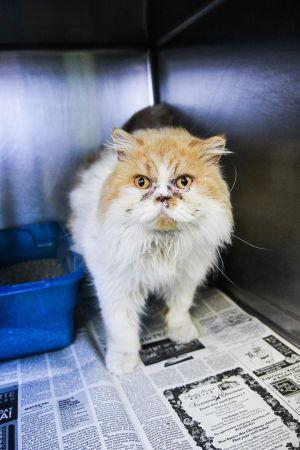persian: (93, 117, 235, 249)
